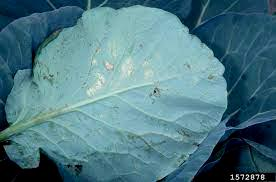Bok-Choy-Diseased: (36, 9, 215, 159)
